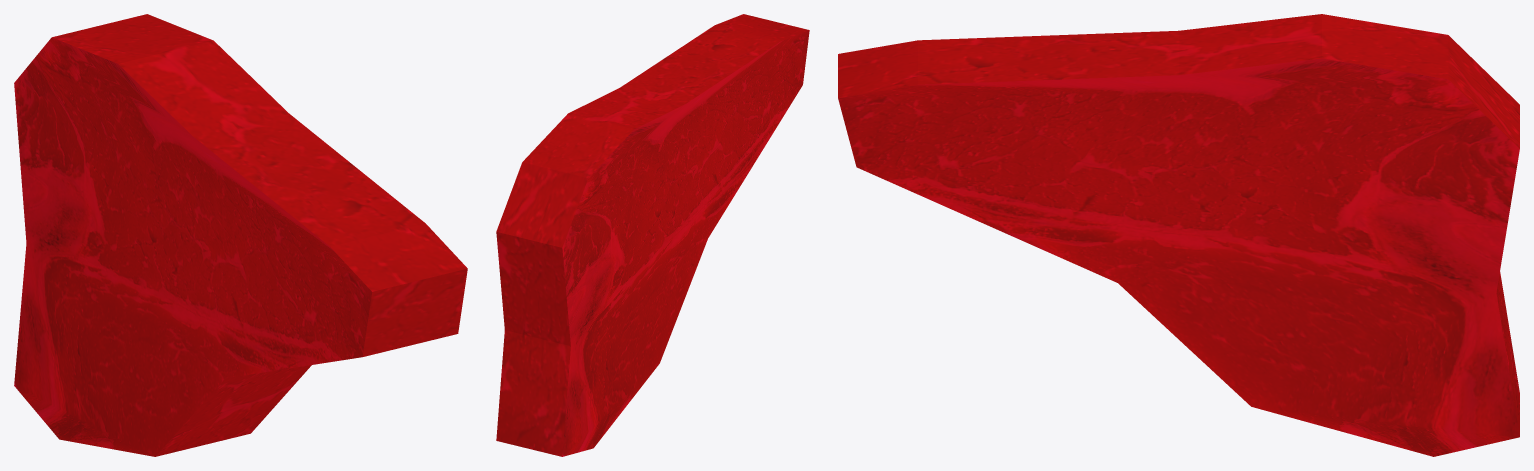
File: beef.gltf
The picture shows the model from 3 angles, left to right: view 1: azimuth 30°, elevation 25°; view 2: azimuth 150°, elevation 25°; view 3: azimuth 270°, elevation 25°; orthographic projection. The views are drawn at different scales.
Parts seen in each view (by area): view 1: Beef; view 2: Beef; view 3: Beef.
Part boxes in pixels (x1,y1,x2,y2): Beef: [14, 14, 467, 456]; Beef: [496, 14, 809, 456]; Beef: [838, 14, 1519, 456].
Bounding box in the file's own units: 0.365 × 1.53 × 2.37.
Materials: 1 (1 with a texture image).
